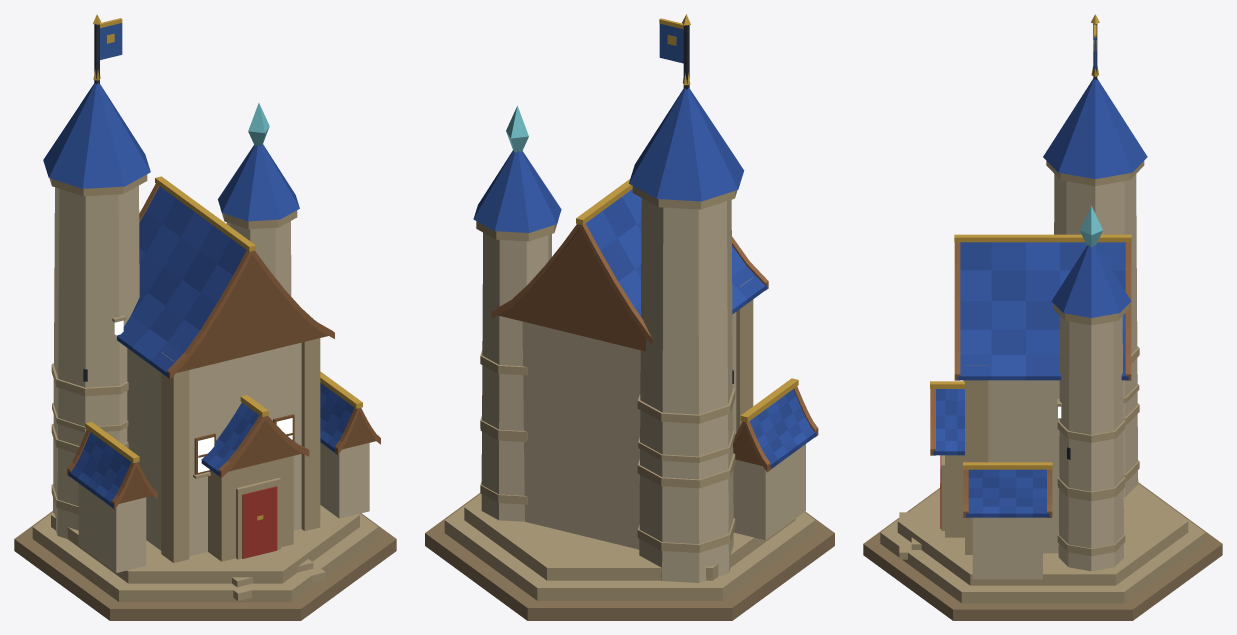
File: castle_t4.glb
The picture shows the model from 3 angles, left to right: view 1: azimuth 30°, elevation 25°; view 2: azimuth 150°, elevation 25°; view 3: azimuth 270°, elevation 25°; orthographic projection. The views are drawn at different scales.
Parts seen in each view (by area): view 1: body, glow, part_core; view 2: body, part_core; view 3: body, part_core.
Part boxes in pixels (x1,y1,x2,y2): body: [14, 14, 396, 620]; glow: [114, 320, 292, 472]; part_core: [248, 103, 269, 146]; body: [425, 14, 834, 620]; part_core: [506, 105, 528, 152]; body: [863, 14, 1222, 620]; part_core: [1079, 206, 1102, 247].
Bounding box in the file's own units: 3.98 × 7.12 × 4.6.
